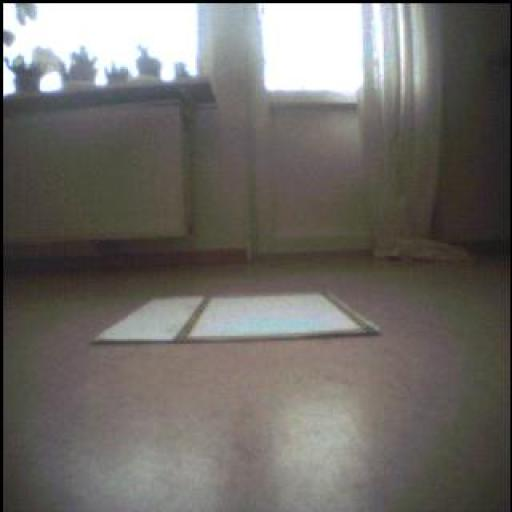Pad: (86, 282, 388, 343)
